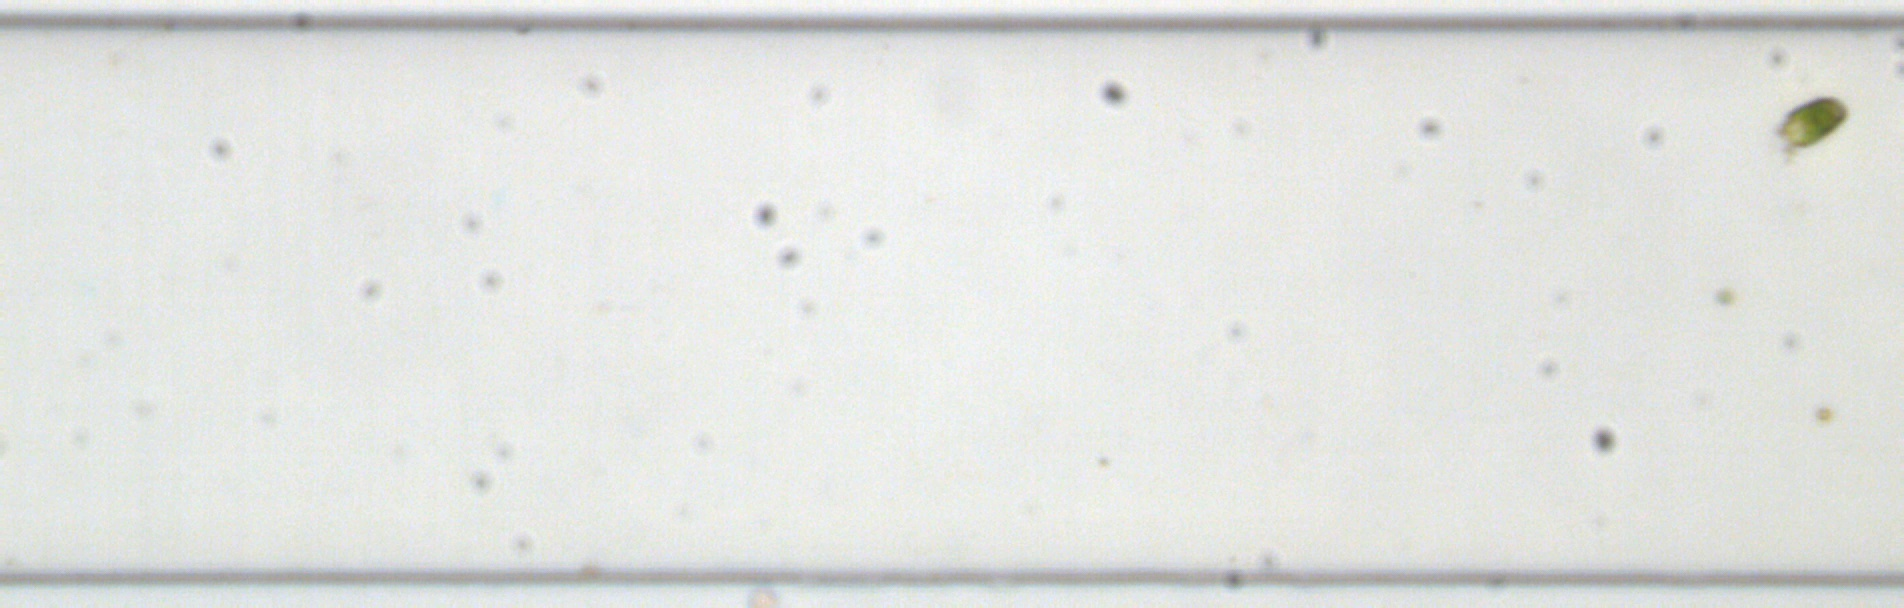Chlorella: (1715, 286, 1738, 307), (1813, 405, 1832, 421)
Platymonas: (1775, 93, 1851, 152)
